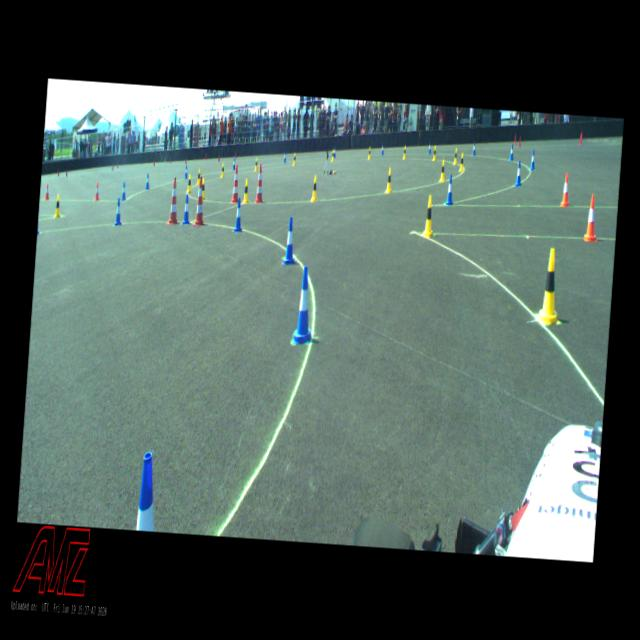blue_cone: (292, 265, 316, 344), (136, 451, 158, 532), (282, 216, 298, 265), (234, 197, 244, 231), (182, 194, 192, 224), (444, 174, 454, 204), (114, 198, 122, 225), (514, 160, 522, 186), (530, 150, 536, 170), (509, 144, 514, 160), (122, 182, 126, 200), (146, 173, 150, 189), (36, 220, 40, 233), (184, 165, 188, 178), (472, 142, 476, 155), (232, 156, 235, 170), (428, 140, 431, 154), (333, 146, 336, 157), (381, 143, 384, 154), (284, 151, 286, 162)
large_orange_cone: (192, 176, 208, 226), (166, 177, 182, 224), (254, 163, 265, 204), (230, 164, 240, 203)
orange_cone: (583, 193, 600, 240), (560, 172, 570, 208), (94, 182, 100, 200), (44, 183, 50, 200)
unknown_cone: (578, 135, 582, 145)
yellow_cone: (536, 248, 564, 324), (422, 195, 434, 237), (310, 174, 318, 202), (242, 178, 250, 203), (438, 158, 446, 182), (54, 195, 62, 218), (385, 167, 392, 193), (186, 174, 192, 193), (201, 178, 206, 199), (459, 152, 464, 171), (220, 162, 225, 178), (453, 148, 458, 164), (432, 145, 437, 160), (402, 144, 407, 158), (196, 168, 200, 184), (330, 148, 334, 162), (254, 157, 258, 170), (292, 152, 296, 165), (368, 146, 371, 159)
